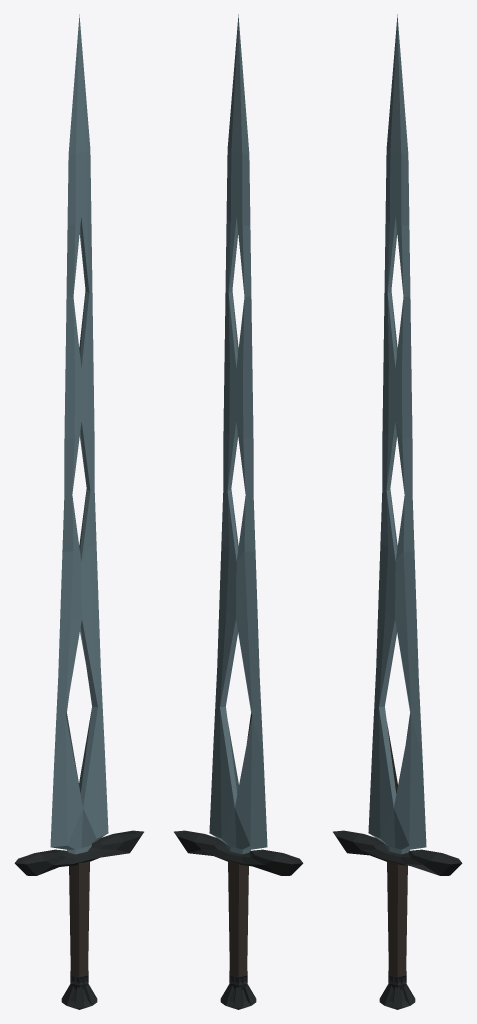
The model's file is moongemdemo.gltf.
3 views of the same model, side by side, from view 1: azimuth 30°, elevation 25°; view 2: azimuth 150°, elevation 25°; view 3: azimuth 330°, elevation 25° (orthographic).
Parts seen in each view (by area): view 1: cylinder, hilt, crossguard, cone; view 2: cylinder, hilt, crossguard, cone; view 3: cylinder, hilt, crossguard, cone.
Boxes of the visible parts, x1=… form: cylinder: x1=50, y1=14, x2=108, y2=854; hilt: x1=69, y1=861, x2=89, y2=989; crossguard: x1=14, y1=830, x2=143, y2=875; cone: x1=61, y1=983, x2=97, y2=1009; cylinder: x1=209, y1=14, x2=267, y2=854; hilt: x1=228, y1=860, x2=248, y2=989; crossguard: x1=174, y1=830, x2=303, y2=875; cone: x1=220, y1=983, x2=256, y2=1009; cylinder: x1=368, y1=14, x2=426, y2=854; hilt: x1=387, y1=860, x2=407, y2=989; crossguard: x1=333, y1=830, x2=462, y2=875; cone: x1=379, y1=983, x2=415, y2=1009.
Bounding box in the file's own units: 1.16 × 8.46 × 0.2719.
1 material, 1 textured.
